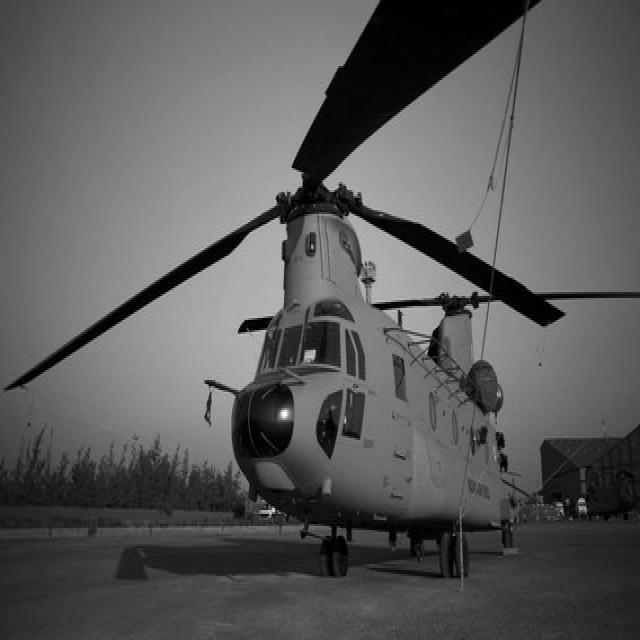helicopter: (10, 91, 631, 595)
